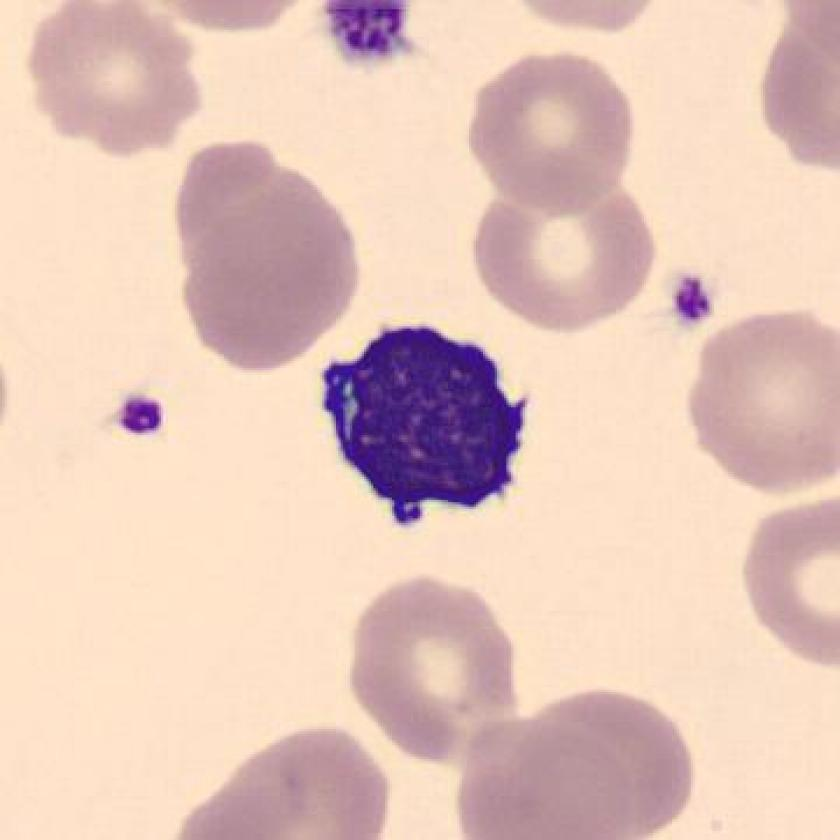lymphocyte: (290, 304, 552, 545)
